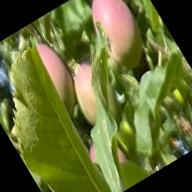Apples: (79, 0, 155, 74), (30, 38, 90, 118), (61, 59, 120, 128), (84, 132, 128, 177)
